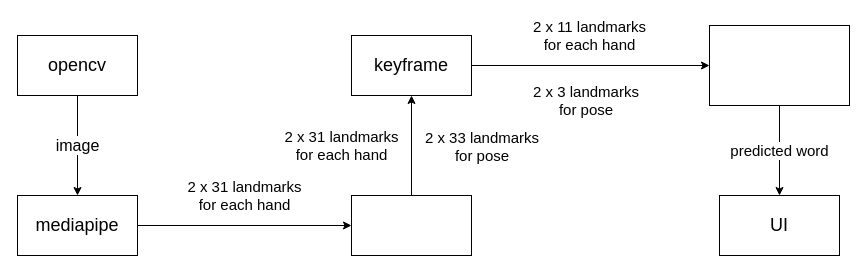
Image size: 867x273. Some labels were removed from this diagram. The centre of each missing label's shape, as x and y in pixels:
"LSTM Classification Model" belongs at point (779, 65).
"normalized" belongs at point (411, 225).
